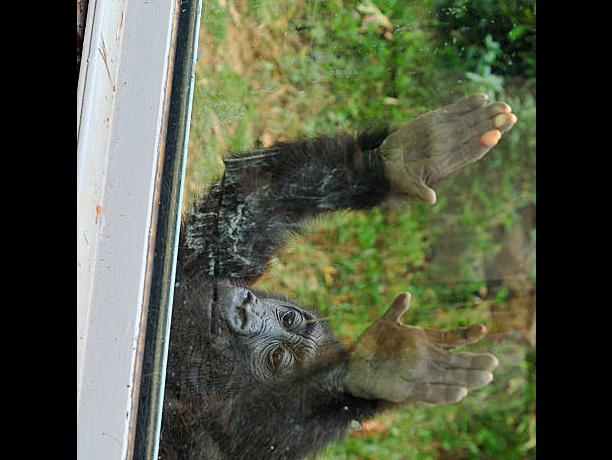gorille_Autres: (174, 131, 364, 460)
